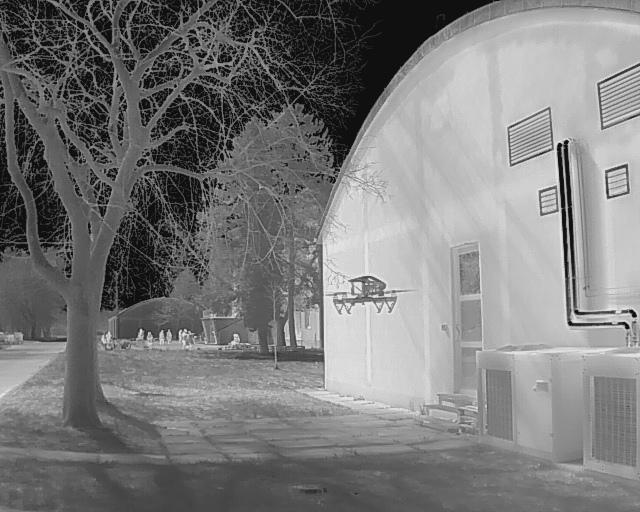drone: (327, 264, 404, 323)
